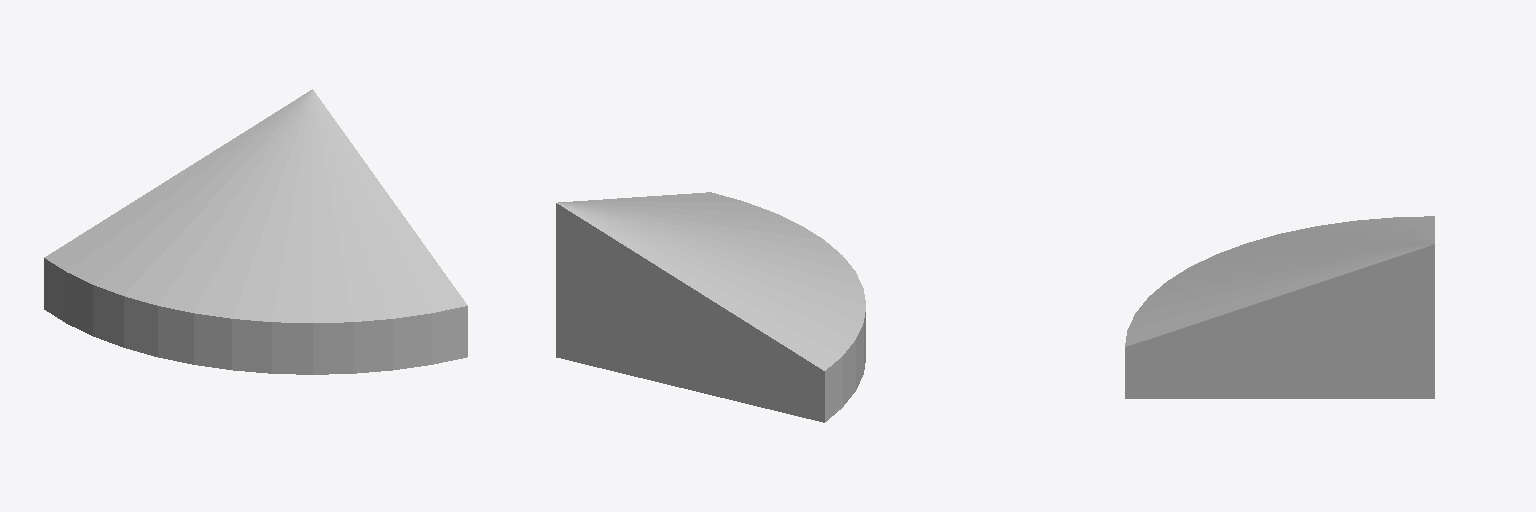
File: tile280.obj
The picture shows the model from 3 angles: view 1: azimuth 30°, elevation 25°; view 2: azimuth 150°, elevation 25°; view 3: azimuth 270°, elevation 25°; orthographic projection.
Visible parts, largest first — view 1: tile280; view 2: tile280; view 3: tile280.
Part boxes in pixels (x1,y1,x2,y2): tile280: (44, 89, 467, 374); tile280: (556, 192, 865, 422); tile280: (1125, 216, 1434, 398).
Bounding box in the file's own units: 1 × 0.55 × 1.